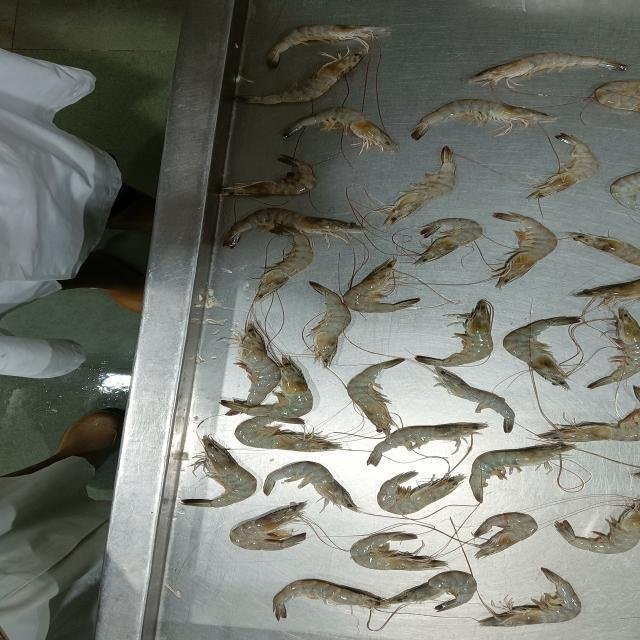shrimp: (418, 360, 515, 431), (377, 146, 455, 224), (480, 568, 581, 626), (412, 99, 557, 139), (247, 53, 361, 103), (225, 355, 312, 420), (504, 316, 580, 387), (224, 208, 364, 246), (471, 446, 565, 502), (182, 436, 255, 507), (415, 300, 493, 366), (367, 423, 487, 464), (468, 53, 626, 84), (285, 107, 396, 151), (269, 25, 388, 66), (493, 212, 557, 287), (263, 461, 359, 511), (528, 134, 599, 199), (556, 499, 639, 553), (347, 357, 404, 433), (254, 229, 313, 302), (273, 580, 382, 619), (588, 307, 639, 387), (235, 320, 281, 407), (344, 259, 419, 311), (379, 571, 475, 611), (221, 156, 315, 196), (350, 532, 447, 570), (236, 416, 344, 450), (378, 472, 465, 514), (230, 502, 306, 550), (308, 282, 351, 366), (539, 408, 639, 442), (412, 218, 483, 263), (473, 513, 537, 557), (569, 232, 639, 265), (575, 279, 639, 305), (593, 80, 639, 112), (609, 172, 639, 207)
